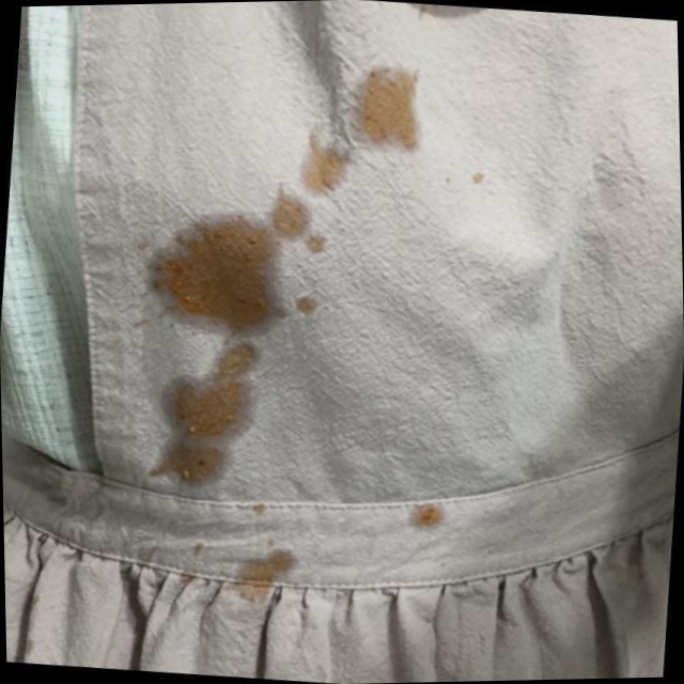kimchi: (125, 193, 360, 490), (285, 56, 440, 191), (162, 498, 304, 615), (396, 485, 458, 543), (472, 168, 494, 193)
